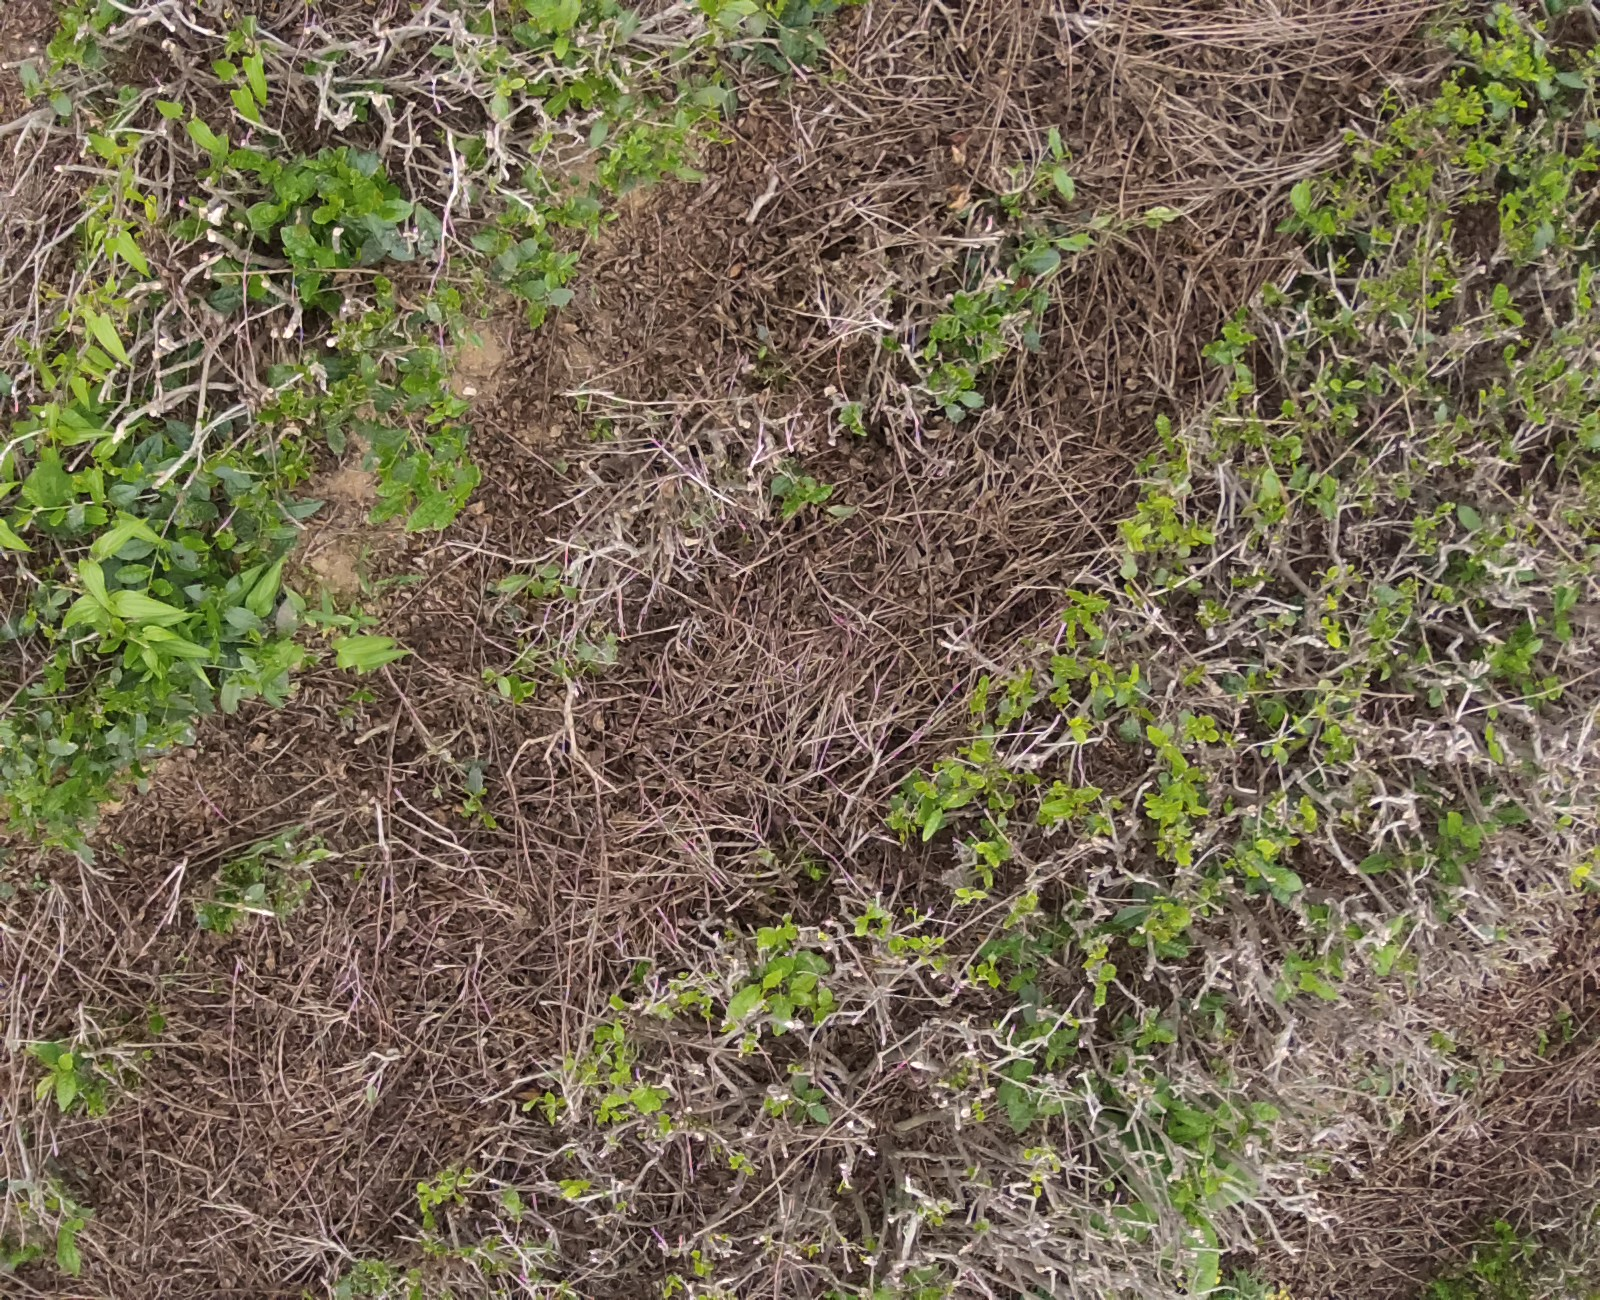new: (1164, 742, 1189, 768), (1144, 726, 1167, 749), (1169, 907, 1193, 926), (1175, 842, 1193, 866), (1205, 1173, 1222, 1195), (1191, 529, 1215, 545), (762, 970, 781, 988), (1489, 740, 1503, 765), (1254, 837, 1275, 854), (971, 840, 994, 856), (1124, 519, 1138, 543), (1292, 712, 1307, 735), (604, 1094, 630, 1106), (1142, 792, 1164, 807), (1089, 941, 1106, 958), (57, 1053, 74, 1071), (1071, 726, 1087, 744), (1298, 804, 1316, 820), (1049, 780, 1068, 796), (1132, 524, 1152, 539), (1455, 114, 1482, 125), (521, 1096, 539, 1112), (1165, 783, 1181, 800), (967, 773, 984, 789), (727, 1155, 746, 1170), (853, 918, 868, 937), (1321, 617, 1340, 631), (1313, 700, 1328, 719), (678, 992, 698, 1006), (758, 933, 773, 948), (629, 1086, 647, 1100), (1500, 212, 1514, 231), (613, 1020, 624, 1043), (564, 1185, 580, 1199), (984, 852, 999, 868), (1198, 714, 1214, 728), (1327, 631, 1341, 647), (1321, 594, 1337, 609), (1244, 864, 1260, 878), (1154, 930, 1171, 943), (693, 1259, 704, 1277), (1129, 665, 1141, 683), (429, 1190, 443, 1204), (417, 1197, 430, 1212), (1162, 527, 1175, 543), (968, 751, 986, 763), (988, 971, 1000, 988), (1329, 724, 1341, 742), (1142, 799, 1164, 808), (1190, 728, 1205, 742), (1327, 565, 1340, 580), (925, 788, 939, 801), (954, 887, 970, 899), (1080, 956, 1096, 968), (1205, 730, 1221, 742), (697, 995, 712, 1007), (1504, 523, 1515, 540), (1101, 684, 1114, 698), (560, 1177, 574, 1189), (1133, 539, 1145, 553), (1286, 836, 1300, 848), (970, 890, 988, 899), (1089, 670, 1099, 688), (1485, 723, 1494, 742), (1024, 1147, 1040, 1158), (1186, 712, 1197, 728), (986, 952, 996, 968), (547, 1090, 556, 1108), (548, 1106, 557, 1124), (1191, 805, 1209, 814), (417, 1182, 429, 1195), (1497, 53, 1508, 66), (1465, 149, 1478, 161), (1508, 208, 1520, 222), (1329, 379, 1343, 391), (1576, 864, 1589, 876), (913, 780, 926, 792), (1067, 715, 1081, 726), (1390, 117, 1405, 127), (1470, 106, 1486, 115), (720, 1023, 736, 1032), (1508, 23, 1520, 34), (817, 930, 829, 942), (785, 1063, 797, 1074), (1562, 814, 1573, 826), (621, 1061, 632, 1074), (1455, 106, 1469, 117), (1381, 231, 1392, 244), (1271, 743, 1282, 756), (1161, 902, 1174, 913), (743, 1166, 755, 1177), (974, 1109, 984, 1121), (1528, 72, 1540, 82), (1569, 876, 1581, 886), (931, 937, 945, 946), (1260, 848, 1270, 861), (1199, 1163, 1209, 1177), (609, 1072, 620, 1082), (1475, 153, 1486, 163), (1497, 15, 1506, 27), (1033, 1185, 1041, 1198), (1502, 5, 1512, 15), (1502, 49, 1512, 58), (1511, 68, 1523, 76), (1479, 387, 1486, 401), (691, 1250, 700, 1259), (1229, 391, 1238, 401), (1516, 99, 1527, 107), (1450, 85, 1461, 93), (921, 934, 930, 942), (1497, 28, 1507, 34)
